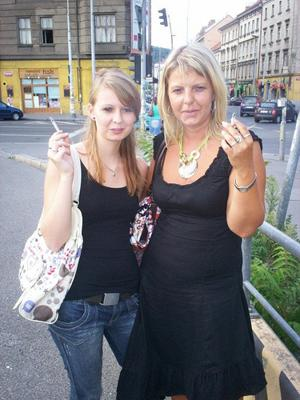person: (18, 68, 153, 400)
